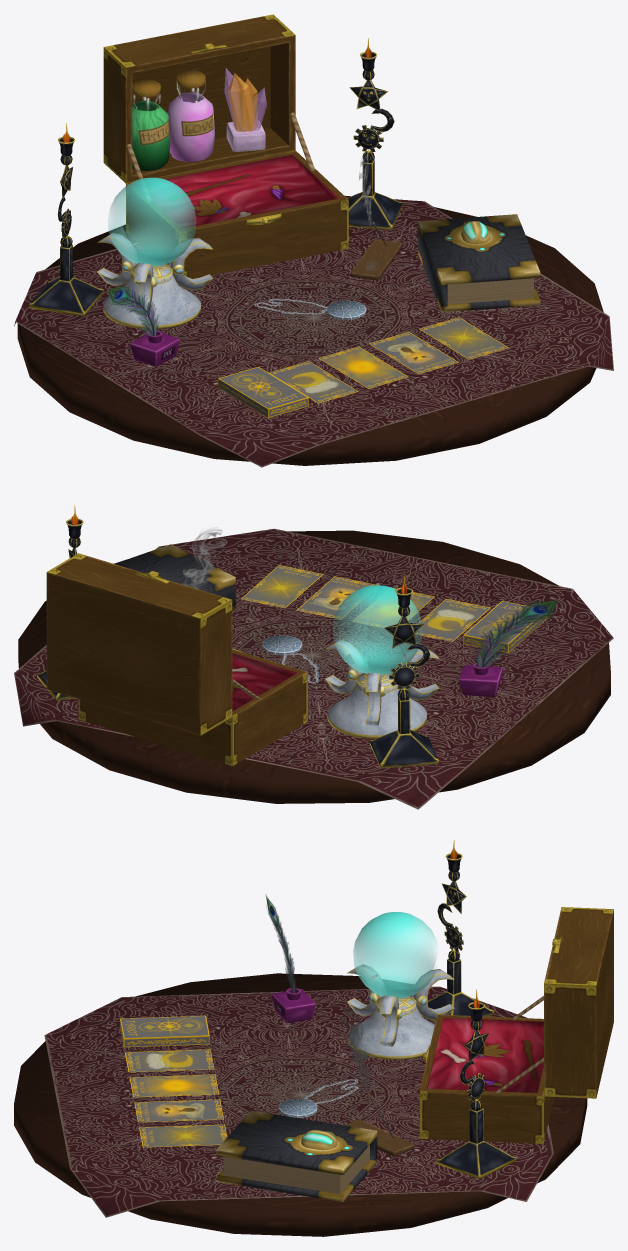
The model's file is random1.glb.
The picture shows the model from 3 angles, top to bottom: view 1: azimuth 30°, elevation 25°; view 2: azimuth 150°, elevation 25°; view 3: azimuth 270°, elevation 25°; orthographic projection. The views are drawn at different scales.
Visible parts, largest first — view 1: Truhe; view 2: Truhe; view 3: Truhe.
Boxes of the visible parts, x1,y1,x2,y2 form: Truhe: (14,14,613,467); Truhe: (14,505,613,809); Truhe: (14,840,613,1236).
Bounding box in the file's own units: 5.98 × 2.36 × 6.26.
2 materials, 2 textured.
